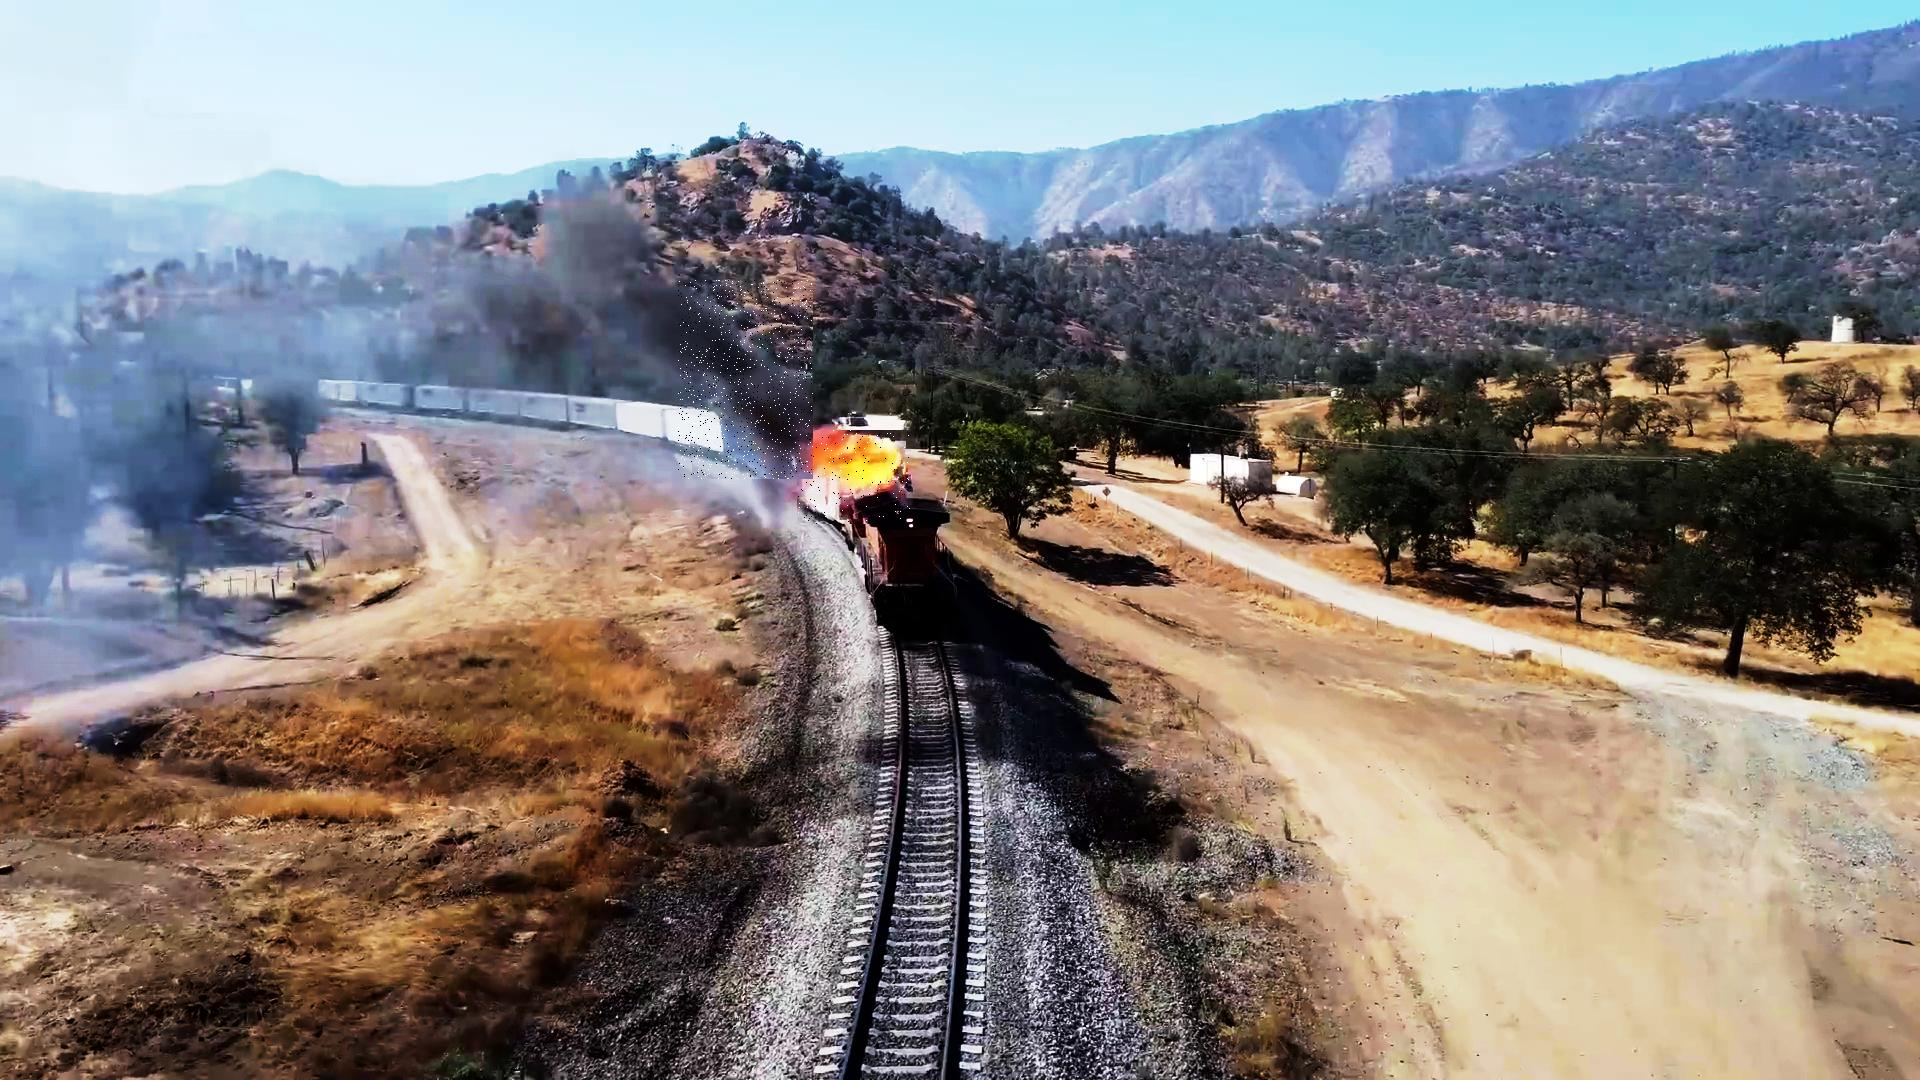fire: (798, 430, 911, 525)
smoke: (678, 280, 814, 479)
